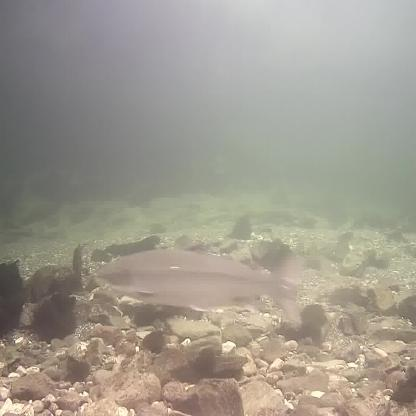salmon: (90, 236, 309, 332)
